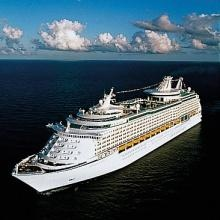youlun: (12, 75, 206, 190)
